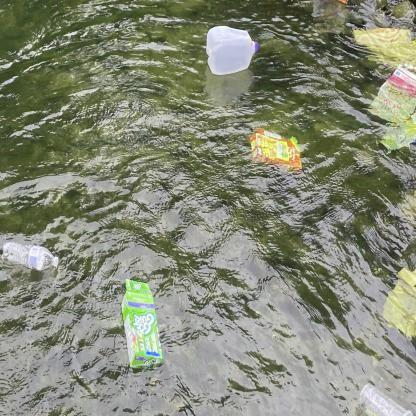Plastic: (204, 22, 260, 78), (0, 238, 61, 275), (356, 380, 416, 415)
Trash: (348, 24, 416, 77), (381, 266, 416, 344)
